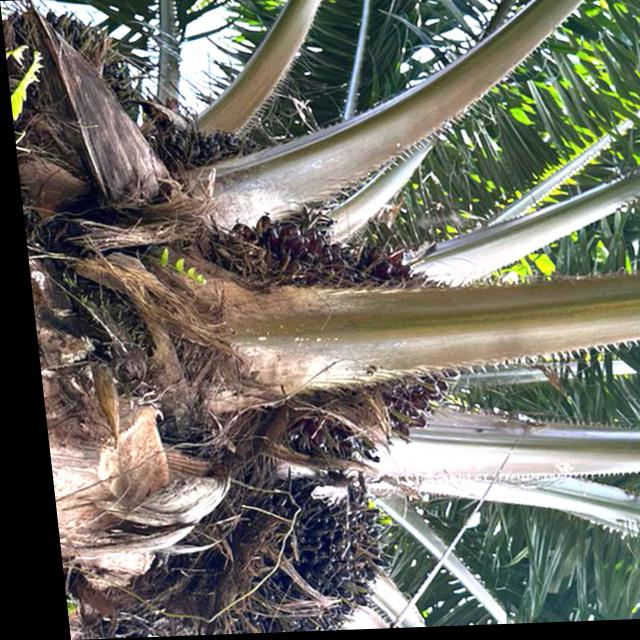ripe: (207, 210, 471, 455), (211, 474, 378, 635)
